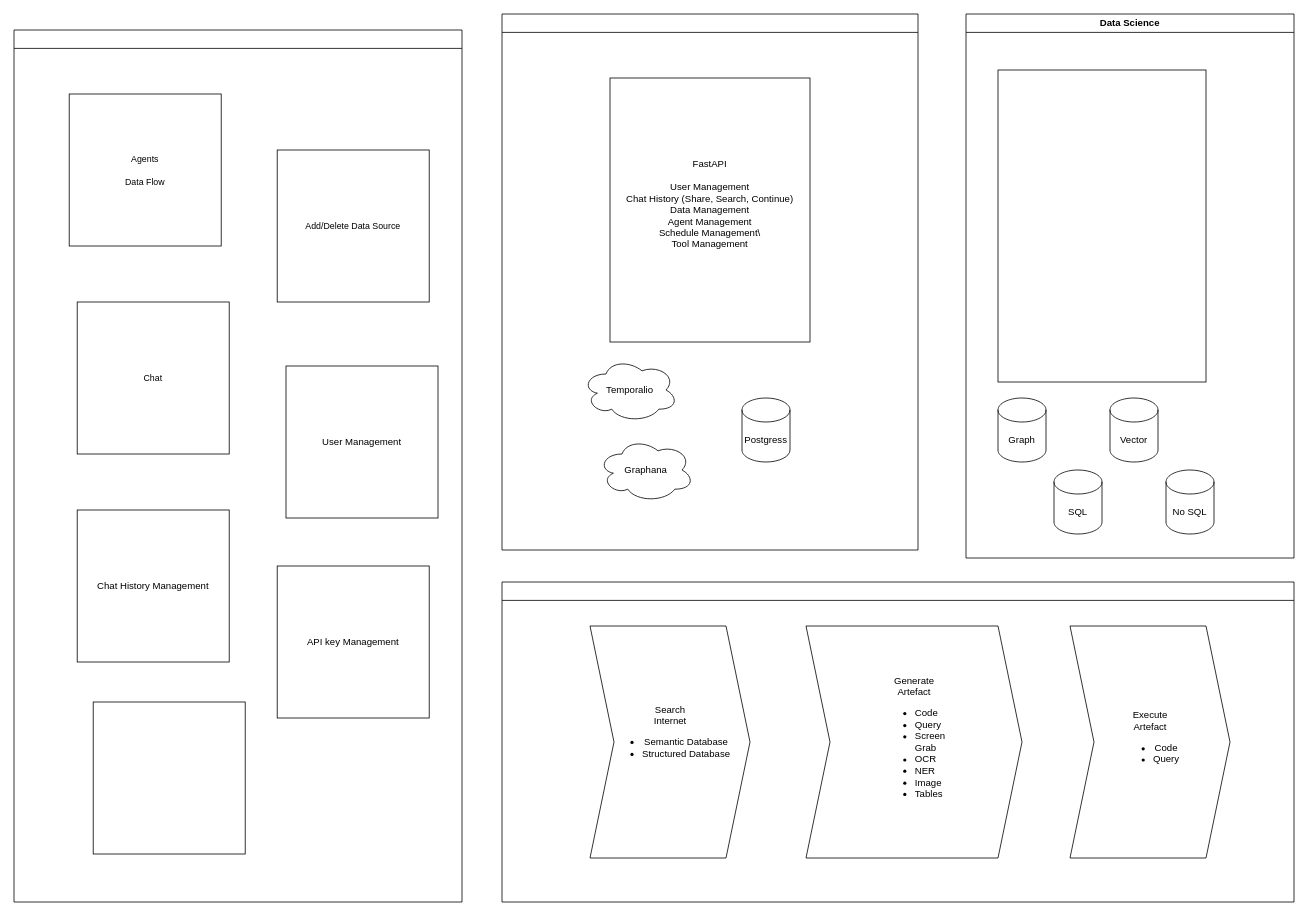
Some shapes in this 1308 by 916 pixel diagram are drawn without their labels. Here are the shapes that lost their labels. From the top down, the box of each, then its label:
(997, 69, 1206, 382): FastAPI Chat Agents I Ingest
(501, 13, 918, 550): Backend
(13, 29, 462, 902): Frontend
(501, 581, 1294, 902): Tools
